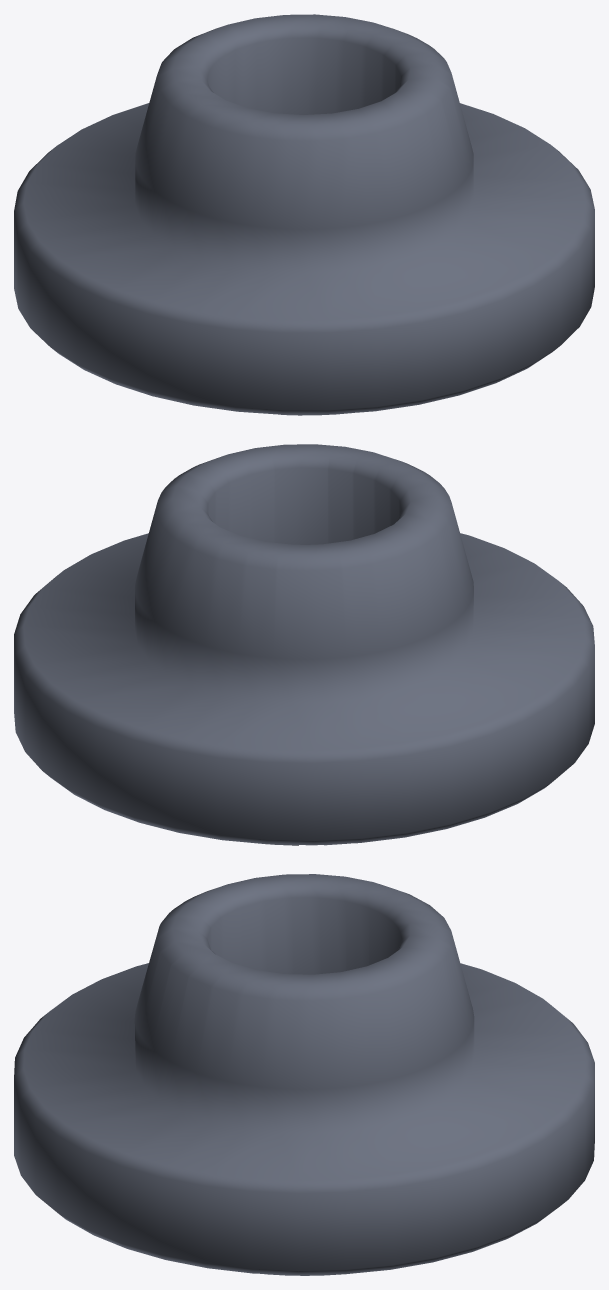
File: solo_upper_leg_left_side_10.obj
3 views of the same model, one above another, from view 1: azimuth 30°, elevation 25°; view 2: azimuth 150°, elevation 25°; view 3: azimuth 270°, elevation 25° (orthographic).
Size of the model in its own units: 0.012 by 0.00596 by 0.012.
